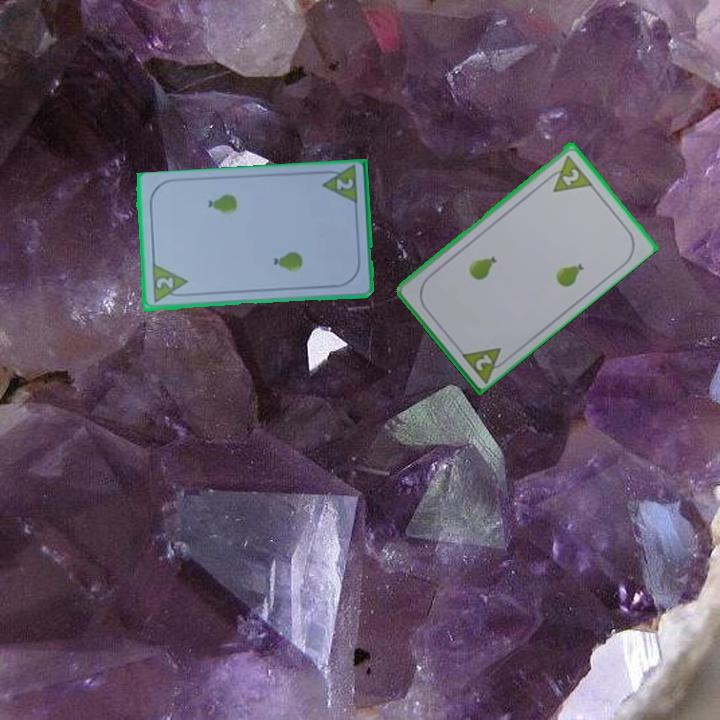2p: (541, 151, 594, 195), (457, 343, 512, 385), (318, 164, 360, 208), (152, 274, 176, 291)
